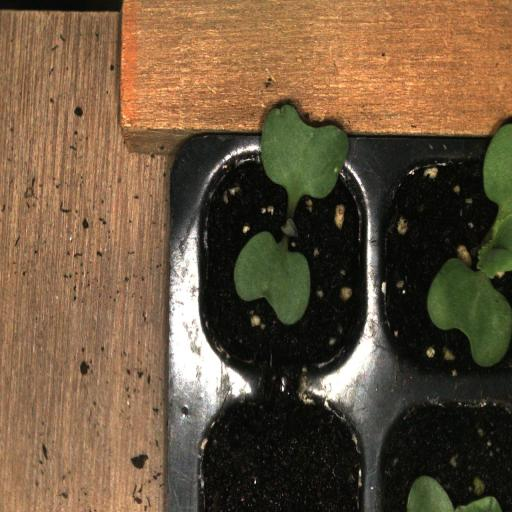Folha: (259, 104, 350, 208), (234, 231, 311, 325), (407, 475, 502, 512)
Germinacao: (190, 152, 373, 388), (372, 152, 512, 387)
